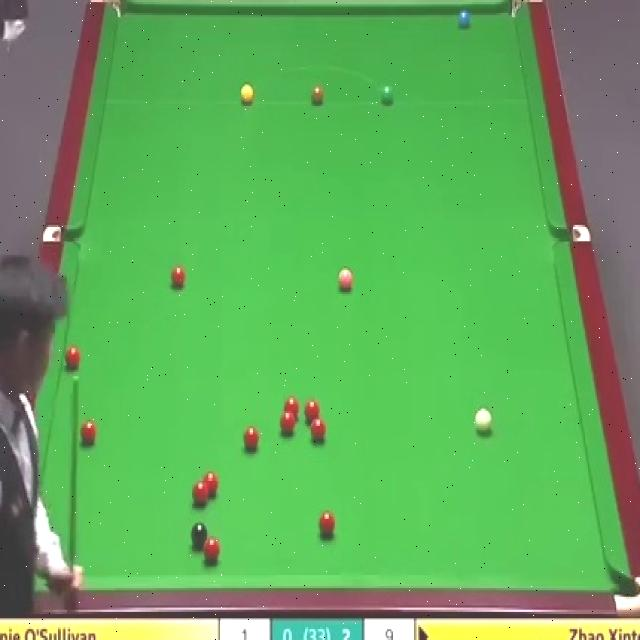black-ball: (190, 523, 207, 548)
blue-ball: (458, 9, 471, 32)
brown-ball: (310, 84, 324, 105)
green-ball: (379, 85, 393, 105)
pink-ball: (338, 270, 354, 294)
red-ball: (310, 415, 328, 446), (193, 482, 211, 509), (319, 510, 336, 538), (81, 418, 98, 445), (202, 536, 220, 561), (65, 347, 81, 374), (243, 424, 259, 450), (202, 472, 220, 495), (281, 412, 297, 436), (283, 396, 300, 418), (305, 400, 320, 422), (170, 268, 186, 287)
white-ball: (475, 405, 493, 438)
yellow-ball: (240, 84, 254, 105)
